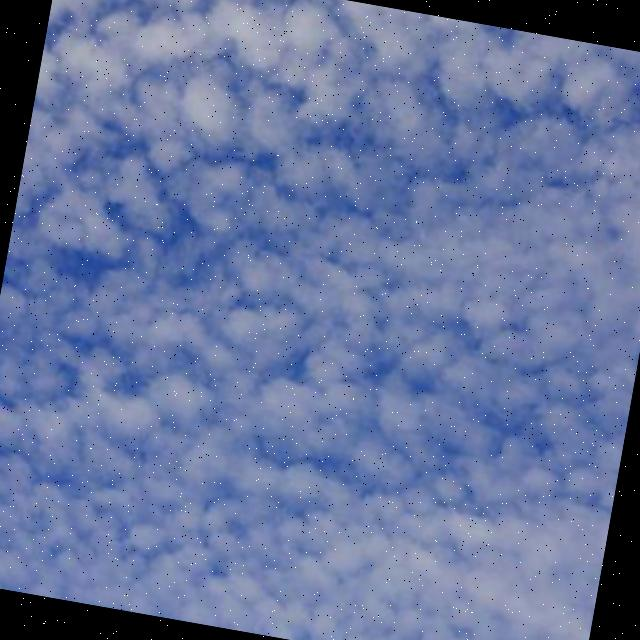Ac: (1, 1, 640, 589)
